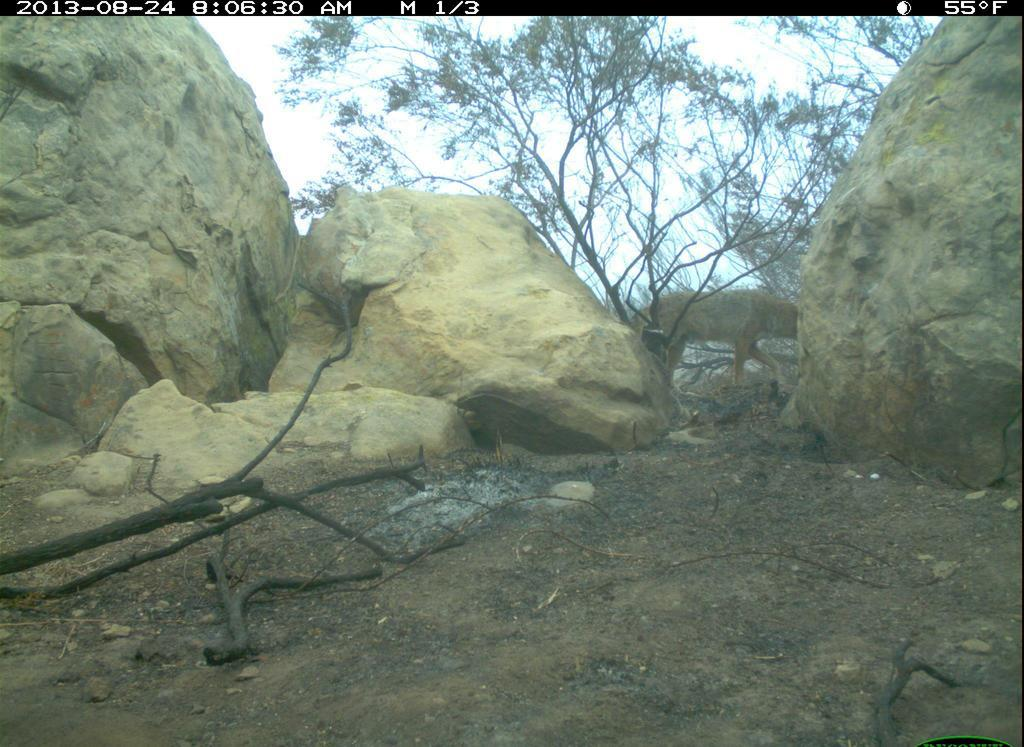coyote: (625, 289, 811, 405)
